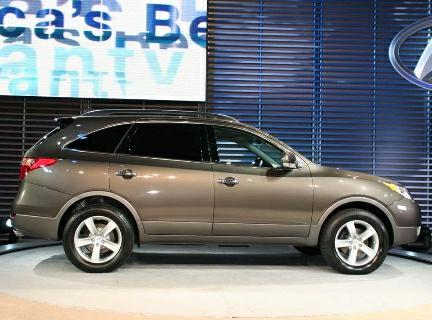car: (9, 103, 428, 275)
